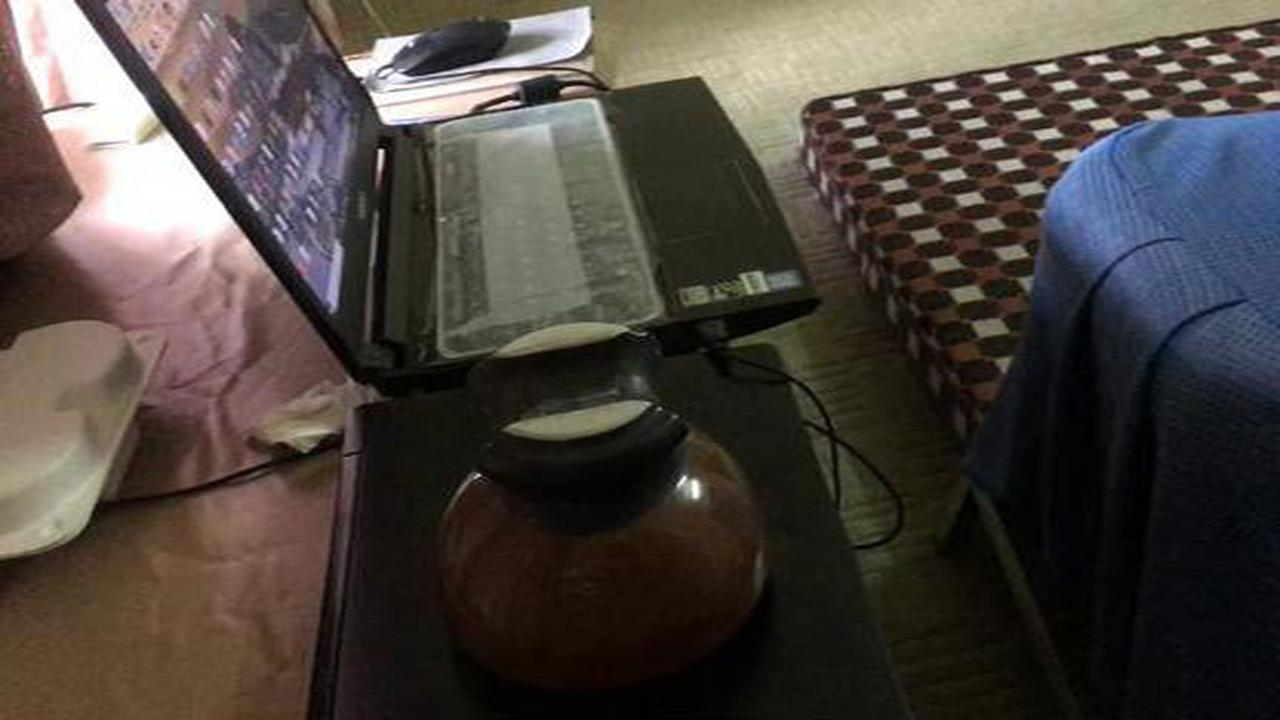insulator_pin: (416, 309, 785, 698)
